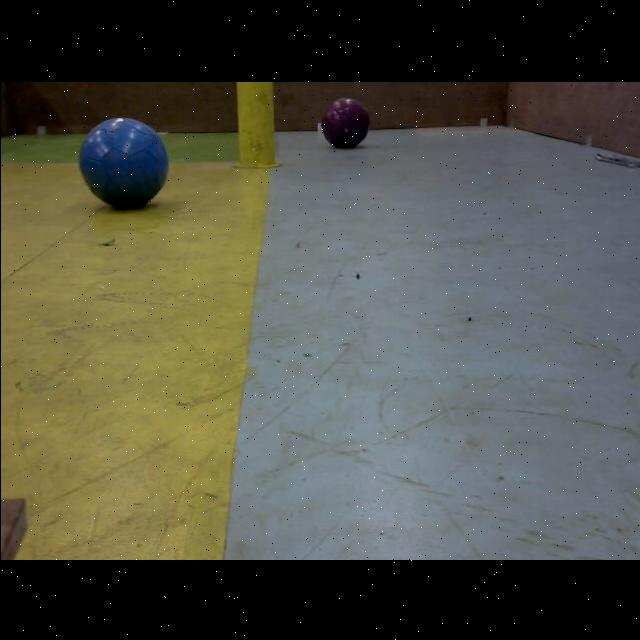B: (76, 114, 168, 210)
P: (320, 97, 370, 147)
